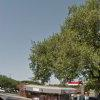Tree: (36, 2, 99, 84)
